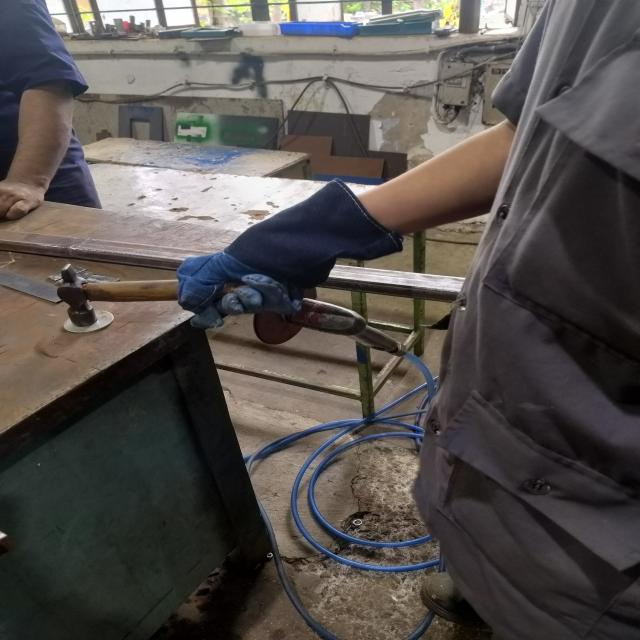Gloves-Detection: (172, 180, 392, 336)
